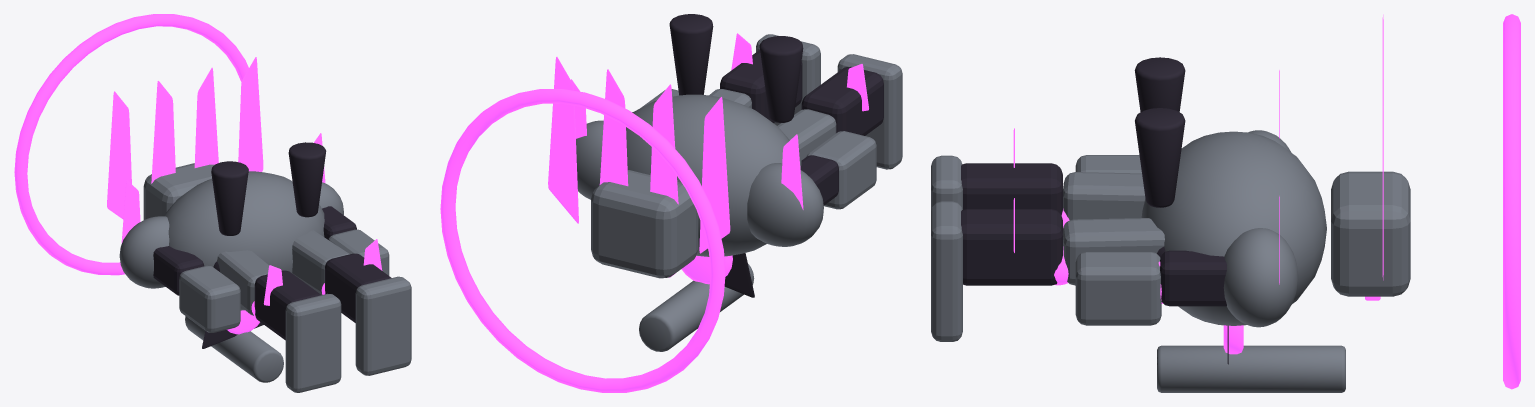
Rendered from boss_void_enemy.glb.
3 views of the same model, side by side, from view 1: azimuth 30°, elevation 25°; view 2: azimuth 150°, elevation 25°; view 3: azimuth 270°, elevation 25° (orthographic). The views are drawn at different scales.
Visible parts, largest first — view 1: torso, boss-halo, foot.001, foot, forearm, shoulder-shell, enemy-cannon, boss-banner0, enemy-thruster.001, enemy-thruster, lower-leg.001, boss-banner3 (+15 smaller); view 2: boss-halo, torso, head, shoulder-shell, lower-leg, enemy-cannon, boss-banner3, forearm, foot, enemy-thruster, boss-banner0, enemy-thruster.001 (+14 smaller); view 3: torso, head, enemy-cannon, lower-leg.001, boss-halo, forearm.001, shoulder-shell.001, lower-leg, foot.001, enemy-thruster.001, upper-leg, upper-leg.001 (+5 smaller).
Part boxes in pixels (left/top/right/bottom): torso: left=164, top=171, right=324, bottom=310; boss-halo: left=14, top=14, right=248, bottom=275; foot.001: left=355, top=276, right=411, bottom=375; foot: left=285, top=293, right=341, bottom=392; forearm: left=179, top=265, right=240, bottom=332; shoulder-shell: left=119, top=216, right=169, bottom=288; enemy-cannon: left=185, top=316, right=283, bottom=382; boss-banner0: left=107, top=91, right=131, bottom=219; enemy-thruster.001: left=288, top=142, right=326, bottom=217; enemy-thruster: left=211, top=161, right=248, bottom=235; lower-leg.001: left=325, top=253, right=391, bottom=322; boss-banner3: left=238, top=57, right=263, bottom=171; boss-halo: left=440, top=89, right=725, bottom=392; torso: left=626, top=94, right=801, bottom=256; head: left=591, top=170, right=698, bottom=278; shoulder-shell: left=747, top=163, right=823, bottom=246; lower-leg: left=801, top=66, right=883, bottom=135; enemy-cannon: left=639, top=264, right=754, bottom=351; boss-banner3: left=548, top=57, right=578, bottom=223; forearm: left=806, top=131, right=876, bottom=209; foot: left=837, top=54, right=902, bottom=169; enemy-thruster: left=759, top=36, right=803, bottom=122; boss-banner0: left=699, top=97, right=730, bottom=253; enemy-thruster.001: left=669, top=14, right=713, bottom=95; torso: left=1141, top=131, right=1326, bottom=325; head: left=1331, top=171, right=1410, bottom=296; enemy-cannon: left=1157, top=345, right=1345, bottom=392; lower-leg.001: left=961, top=209, right=1062, bottom=285; boss-halo: left=1503, top=14, right=1520, bottom=389; forearm.001: left=1075, top=252, right=1161, bottom=325; shoulder-shell.001: left=1223, top=228, right=1298, bottom=327; lower-leg: left=961, top=163, right=1062, bottom=214; foot.001: left=931, top=201, right=962, bottom=341; enemy-thruster.001: left=1135, top=108, right=1185, bottom=207; upper-leg: left=1063, top=172, right=1145, bottom=220; upper-leg.001: left=1063, top=218, right=1164, bottom=285.
Size of the model in its own units: 3.12 by 3.29 by 4.9.
